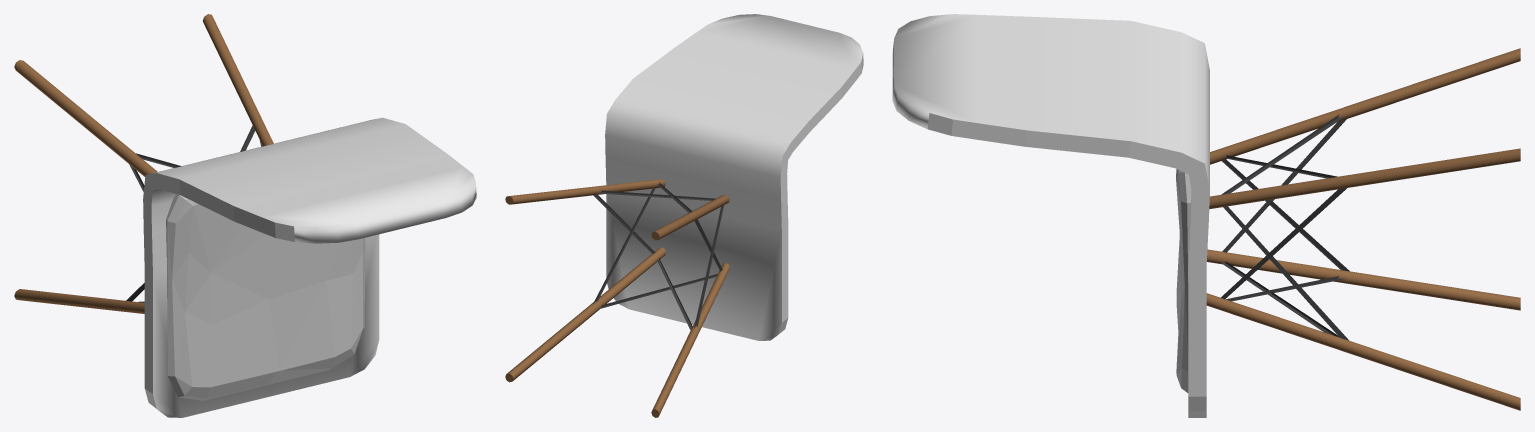
File: Chair_3.obj
The picture shows the model from 3 angles, left to right: view 1: azimuth 30°, elevation 25°; view 2: azimuth 150°, elevation 25°; view 3: azimuth 270°, elevation 25°; orthographic projection. The views are drawn at different scales.
Visible parts, largest first — view 1: Chair_3; view 2: Chair_3; view 3: Chair_3.
Part boxes in pixels (box(x1,y1,x2,y2)): Chair_3: box(14, 14, 476, 417); Chair_3: box(505, 14, 863, 417); Chair_3: box(892, 14, 1520, 417).
Size of the model in its own units: 0.5481 by 0.6551 by 1.21.
